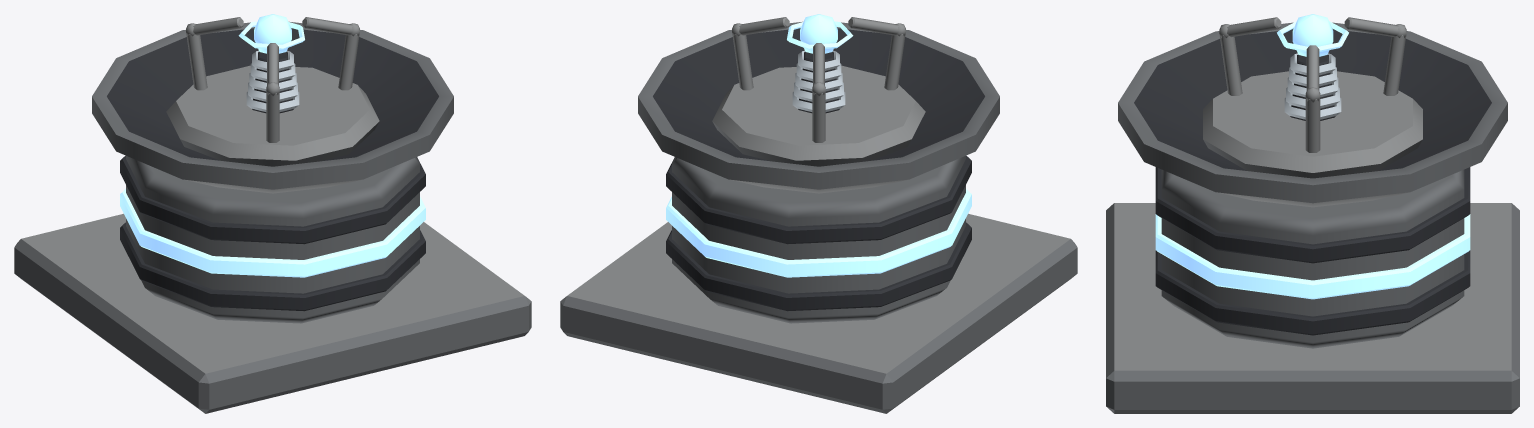
File: R4X_EMPTrapDeployer_LOD1.glb
3 renders of one model, left to right at view 1: azimuth 30°, elevation 25°; view 2: azimuth 150°, elevation 25°; view 3: azimuth 270°, elevation 25°, orthographic. The views are drawn at different scales.
Visible parts, largest first — view 1: R4X_EMPTrapDeployer_LOD1; view 2: R4X_EMPTrapDeployer_LOD1; view 3: R4X_EMPTrapDeployer_LOD1.
Part boxes in pixels (x1=…): R4X_EMPTrapDeployer_LOD1: x1=14, y1=14, x2=531, y2=413; R4X_EMPTrapDeployer_LOD1: x1=560, y1=14, x2=1077, y2=413; R4X_EMPTrapDeployer_LOD1: x1=1106, y1=14, x2=1519, y2=413.
Size of the model in its own units: 0.52 by 0.437 by 0.52.
